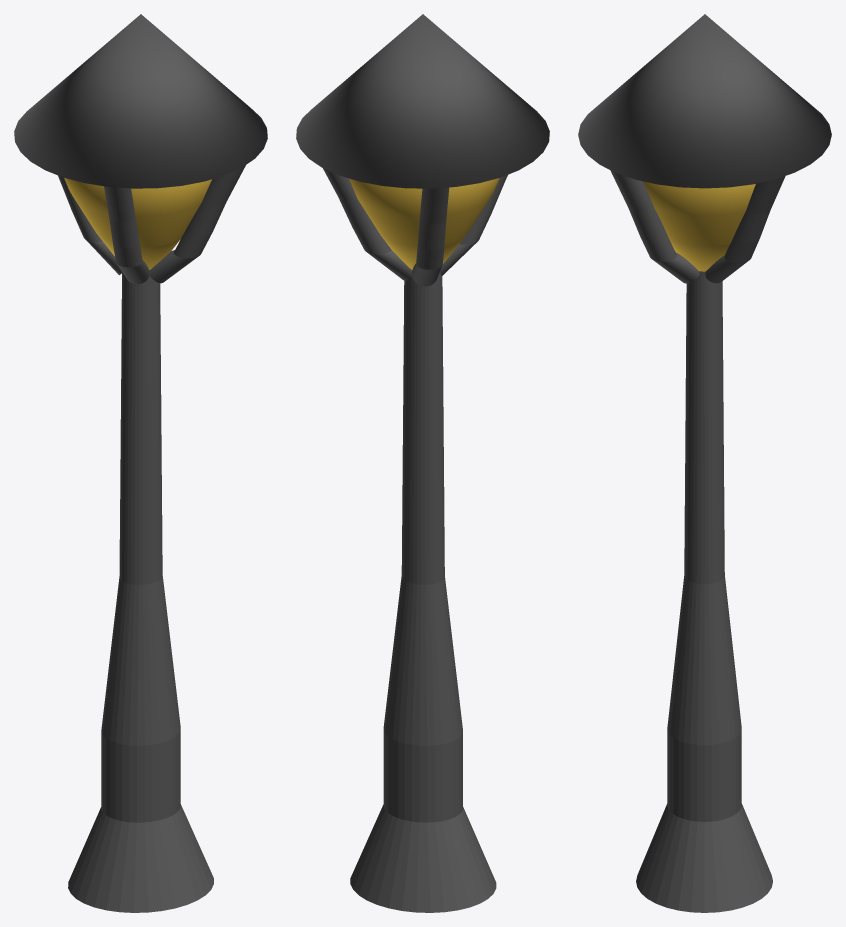
Rendered from Streetlight.fbx.
3 views of the same model, side by side, from view 1: azimuth 30°, elevation 25°; view 2: azimuth 150°, elevation 25°; view 3: azimuth 270°, elevation 25° (orthographic).
Parts seen in each view (by area): view 1: Cylinder, Cone, Cylinder.001, Cylinder.003, Cylinder.005, Cylinder.004; view 2: Cylinder, Cone, Cylinder.001, Cylinder.004, Cylinder.002, Cylinder.005; view 3: Cylinder, Cone, Cylinder.001, Cylinder.003, Cylinder.002.
Boxes of the visible parts, x1,y1,x2,y2 form: Cylinder: (68, 273, 213, 912); Cone: (14, 14, 267, 188); Cylinder.001: (64, 178, 211, 269); Cylinder.003: (148, 165, 245, 283); Cylinder.005: (104, 186, 149, 284); Cylinder.004: (58, 175, 122, 275); Cylinder: (350, 271, 496, 912); Cone: (296, 14, 549, 188); Cylinder.001: (349, 178, 499, 269); Cylinder.004: (412, 187, 449, 286); Cylinder.002: (323, 168, 412, 280); Cylinder.005: (440, 175, 507, 275); Cylinder: (636, 271, 772, 912); Cone: (578, 14, 831, 188); Cylinder.001: (643, 181, 755, 271); Cylinder.003: (610, 170, 699, 283); Cylinder.002: (705, 176, 785, 283).
Bounding box in the file's own units: 286 × 1077 × 286.
